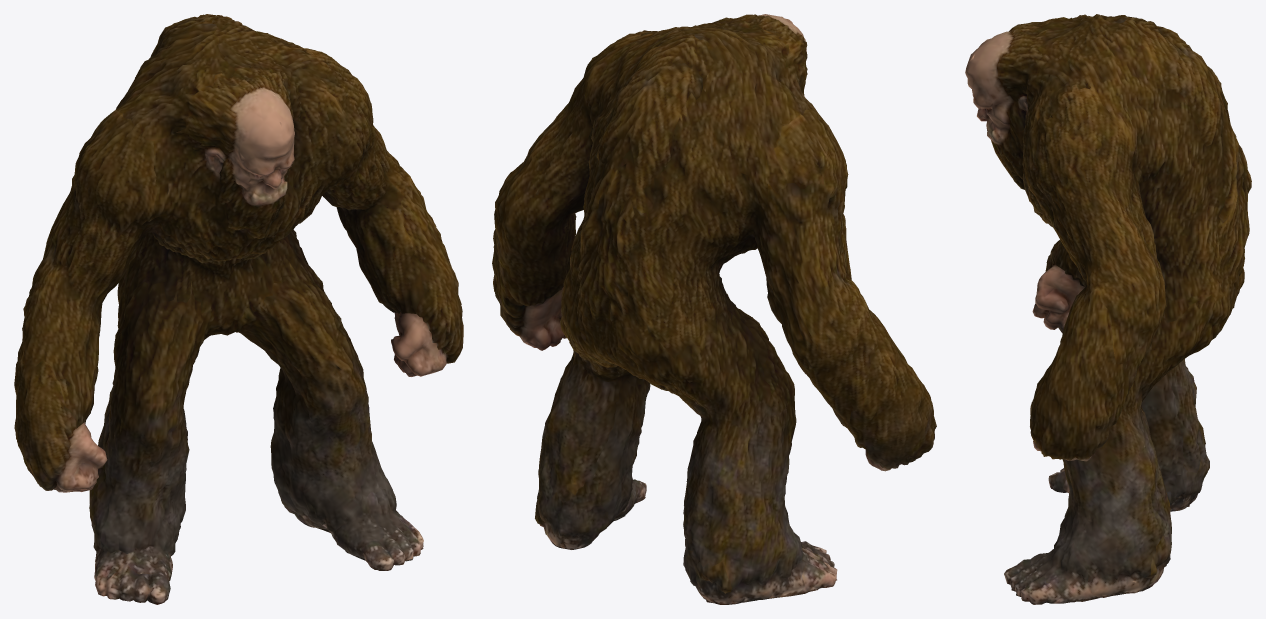
Rendered from Schlossbauer - Bigfoot.glb.
3 views of the same model, side by side, from view 1: azimuth 30°, elevation 25°; view 2: azimuth 150°, elevation 25°; view 3: azimuth 270°, elevation 25° (orthographic). The views are drawn at different scales.
Parts seen in each view (by area): view 1: Bigfoot.001; view 2: Bigfoot.001; view 3: Bigfoot.001.
Boxes of the visible parts, x1,y1,x2,y2 form: Bigfoot.001: (14,14,463,604); Bigfoot.001: (492,14,936,604); Bigfoot.001: (965,14,1251,604).
Bounding box in the file's own units: 45.05 × 53.41 × 27.28.
Materials: 1 (1 with a texture image).
